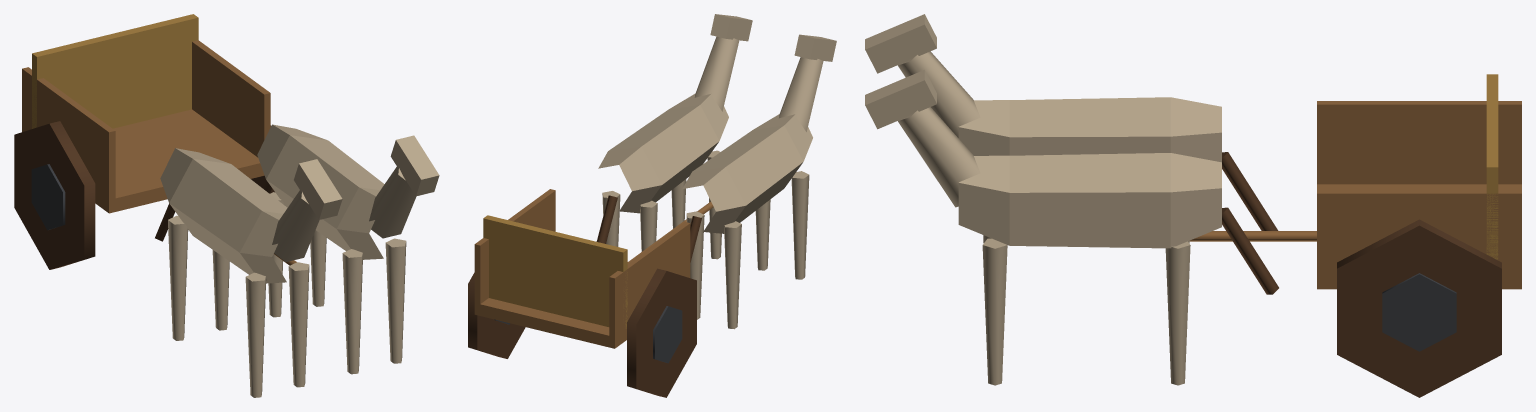
File: veh_ground_chariot_a02_lod1.glb
3 views of the same model, side by side, from view 1: azimuth 30°, elevation 25°; view 2: azimuth 150°, elevation 25°; view 3: azimuth 270°, elevation 25° (orthographic). The views are drawn at different scales.
Parts seen in each view (by area): view 1: body, animal_0, animal_1, wheel_0; view 2: body, animal_0, animal_1, wheel_0, wheel_1; view 3: animal_1, body, wheel_1, animal_0.
Boxes of the visible parts, x1,y1,x2,y2 form: body: (22,14,296,265); animal_0: (155,148,342,397); animal_1: (257,124,439,374); wheel_0: (14,121,95,269); body: (474,189,713,348); animal_0: (682,34,836,329); animal_1: (596,14,752,259); wheel_0: (627,268,696,397); wheel_1: (468,272,525,358); animal_1: (865,69,1278,385); body: (1189,74,1521,289); wheel_1: (1337,219,1501,397); animal_0: (865,14,1278,230).
Size of the model in its own units: 1.84 by 2.23 by 4.49.
